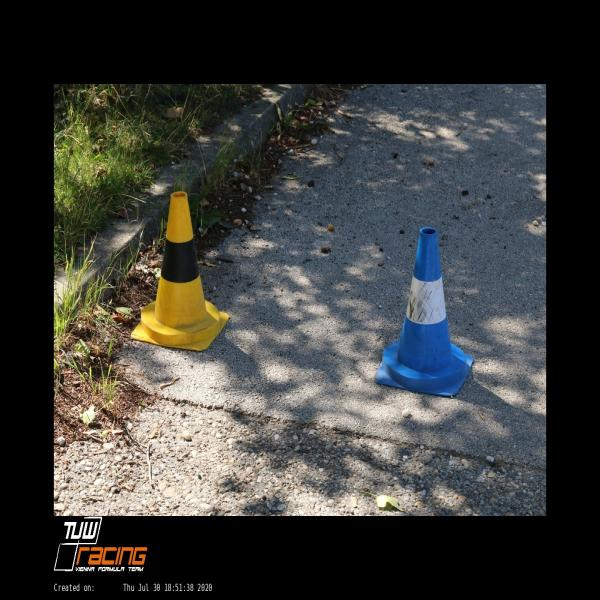blue_cone: (375, 227, 473, 396)
yellow_cone: (131, 192, 230, 352)
